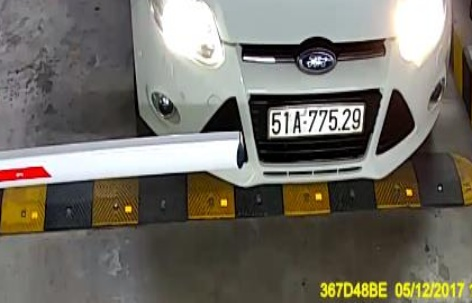plate: (265, 98, 364, 138)
